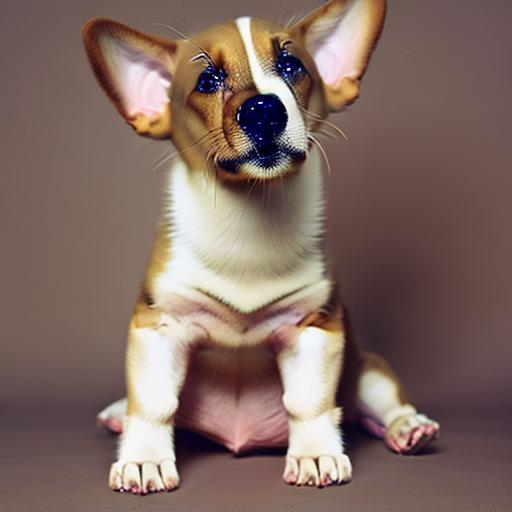eye: (270, 54, 310, 87), (192, 62, 228, 93)
